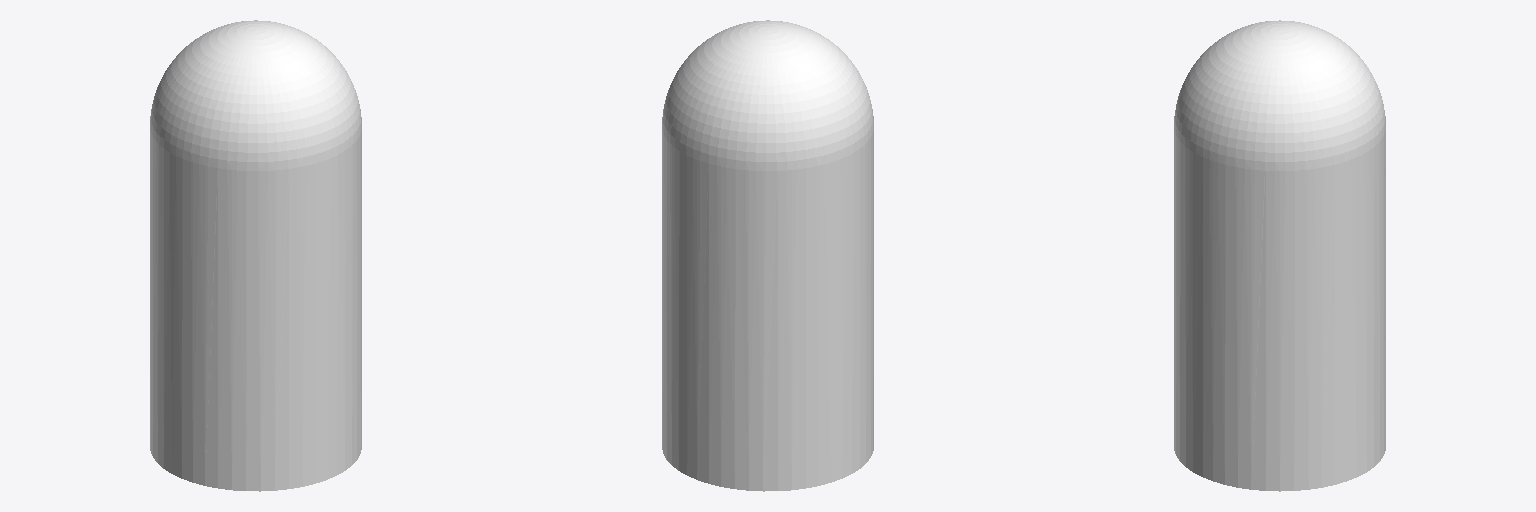
URDF robot description (urdf_robot):
<?xml version="1.0" ?>
<robot name="urdf_robot">

  <link name="base_link">
    <contact>
      <rolling_friction value="0.001"/>
      <spinning_friction value="0.001"/>
    </contact>
    <inertial>
      <origin rpy="0 0 0" xyz="0.0 0.0 0.0"/>
       <mass value="0.1"/>
       <inertia ixx="1" ixy="0" ixz="0" iyy="1" iyz="0" izz="1"/>
    </inertial>
    <visual>
      <origin rpy="0 0 0" xyz="0.0 0.0 0.0"/>
      <geometry>
        <mesh filename="sphere3.obj" scale="1 1 1"/>
      </geometry>
      <material name="white">
        <color rgba="1 1 1 1"/>
      </material>
    </visual>
    <collision>
      <origin rpy="0 0 0" xyz="0.0 0.0 0.0"/>
      <geometry>
        <mesh filename="sphere3.obj" scale="1 1 1"/>
      </geometry>
    </collision>
  </link>
</robot>

--- Render facts (derived) ---
3 views of the same robot in one strip: view 1: azimuth 30°, elevation 25°; view 2: azimuth 150°, elevation 25°; view 3: azimuth 270°, elevation 25° (orthographic).
Robot: urdf_robot — 1 links, 0 joints (none); root link base_link; default pose: every joint at zero.
Visible links, largest first — view 1: base_link; view 2: base_link; view 3: base_link.
Link boxes in pixels (left/top/right/bottom): base_link: left=150, top=20, right=361, bottom=491; base_link: left=662, top=20, right=873, bottom=491; base_link: left=1174, top=20, right=1385, bottom=491.
Bounding box of the posed robot: 0.006 × 0.006 × 0.013 m (x, y, z).
1 mesh visuals loaded from 1 distinct referenced files (1 OBJ).